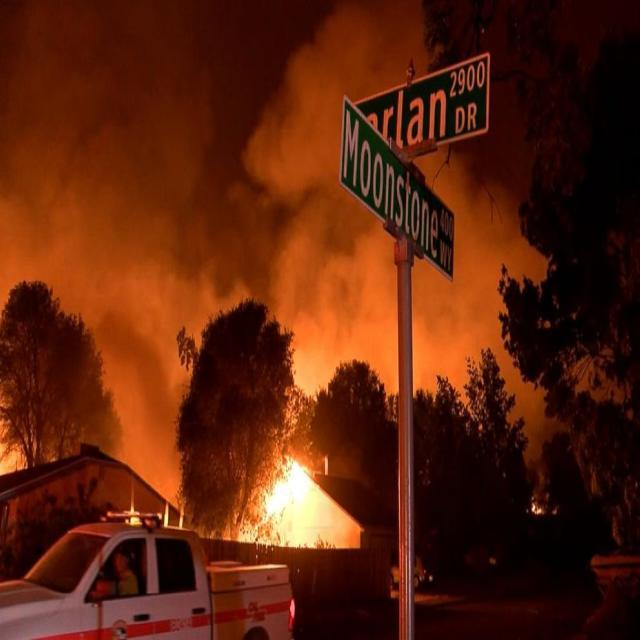Smoke: (235, 0, 560, 407), (0, 0, 248, 511)
